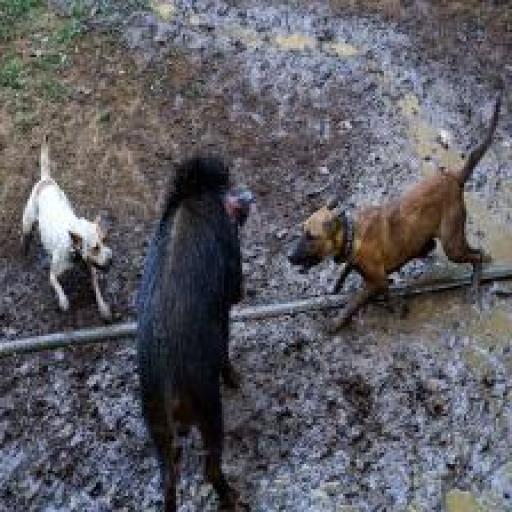Pig: (137, 148, 254, 508)
